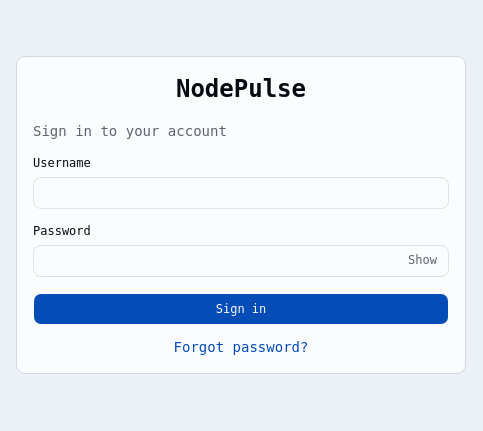
LoginPage › shows a generic connection message for unexpected errors
Step 1. Type "admin" into the field labelled "Username" → (241, 193), box top-left (33, 177), bottom-right (449, 209)
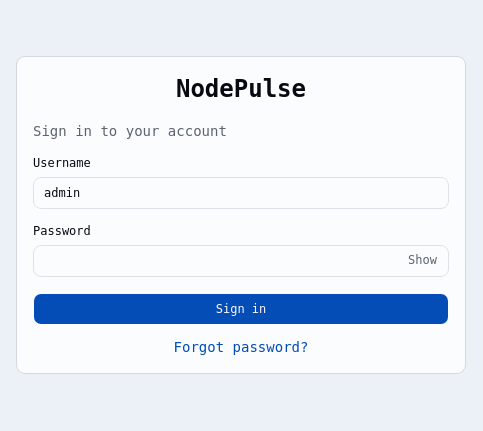
Step 2. Type "x" into the password field labelled "Password" → (241, 261), box top-left (33, 245), bottom-right (449, 277)
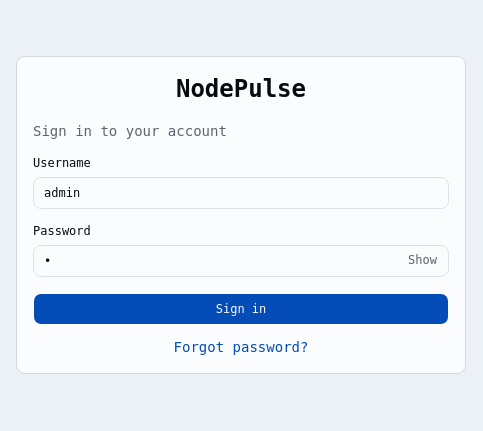
Step 3. Click the button "Sign in" → click(241, 309), box top-left (33, 293), bottom-right (449, 325)
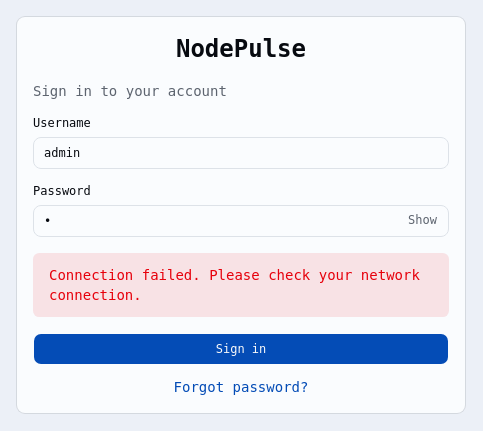
Expected: the text "Connection failed. Please check your network connection." is shown, top-left (33, 253), bottom-right (449, 317)
